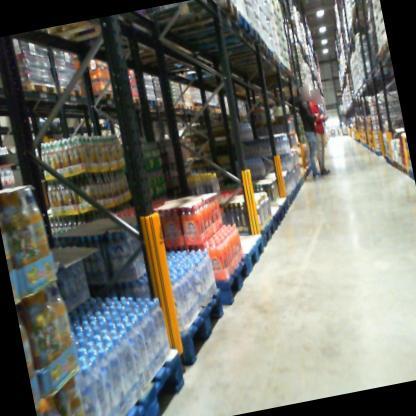pallet: (155, 280, 246, 370), (90, 341, 193, 416), (43, 10, 150, 57), (146, 0, 241, 40), (170, 8, 256, 50), (208, 230, 266, 280), (216, 253, 258, 309), (196, 23, 264, 56), (0, 70, 59, 108), (252, 203, 285, 237), (249, 216, 279, 247), (86, 83, 121, 108), (54, 80, 86, 104), (267, 196, 291, 221), (372, 38, 390, 62), (126, 90, 145, 108), (169, 97, 187, 115), (281, 188, 297, 207), (144, 92, 159, 112), (156, 94, 169, 112), (182, 99, 198, 113), (406, 166, 414, 183), (398, 162, 407, 176)
